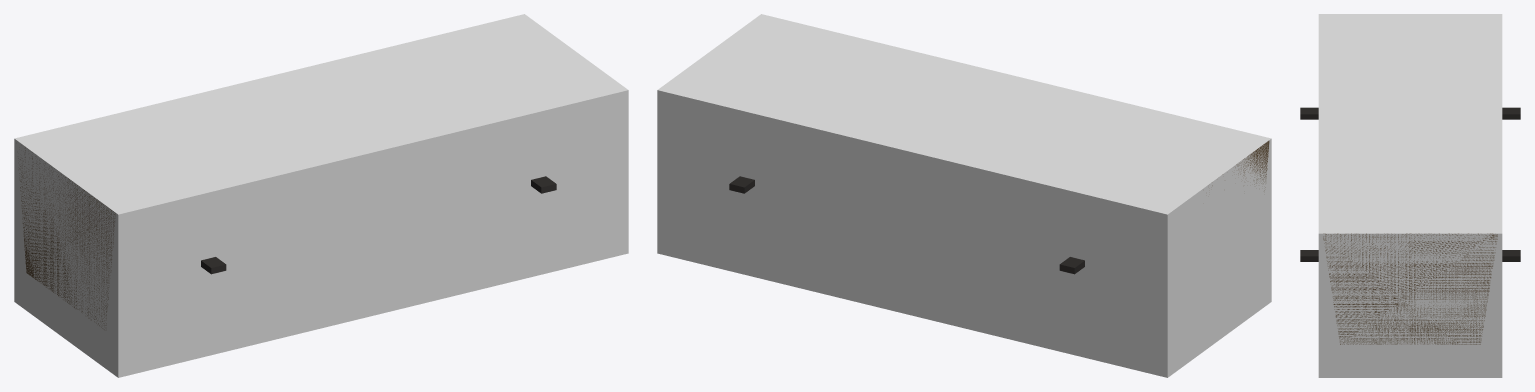
Rendered from trough.glb.
3 views of the same model, side by side, from view 1: azimuth 30°, elevation 25°; view 2: azimuth 150°, elevation 25°; view 3: azimuth 270°, elevation 25° (orthographic). The views are drawn at different scales.
Parts seen in each view (by area): view 1: COL_trough, trough; view 2: COL_trough, trough; view 3: COL_trough, trough.
Part boxes in pixels (left/top/right/bottom): COL_trough: left=14, top=14, right=628, bottom=377; trough: left=18, top=147, right=556, bottom=329; COL_trough: left=657, top=14, right=1271, bottom=377; trough: left=729, top=140, right=1269, bottom=274; COL_trough: left=1318, top=14, right=1502, bottom=377; trough: left=1300, top=107, right=1520, bottom=344.
Bounding box in the file's own units: 1.7 × 0.52 × 0.72.
